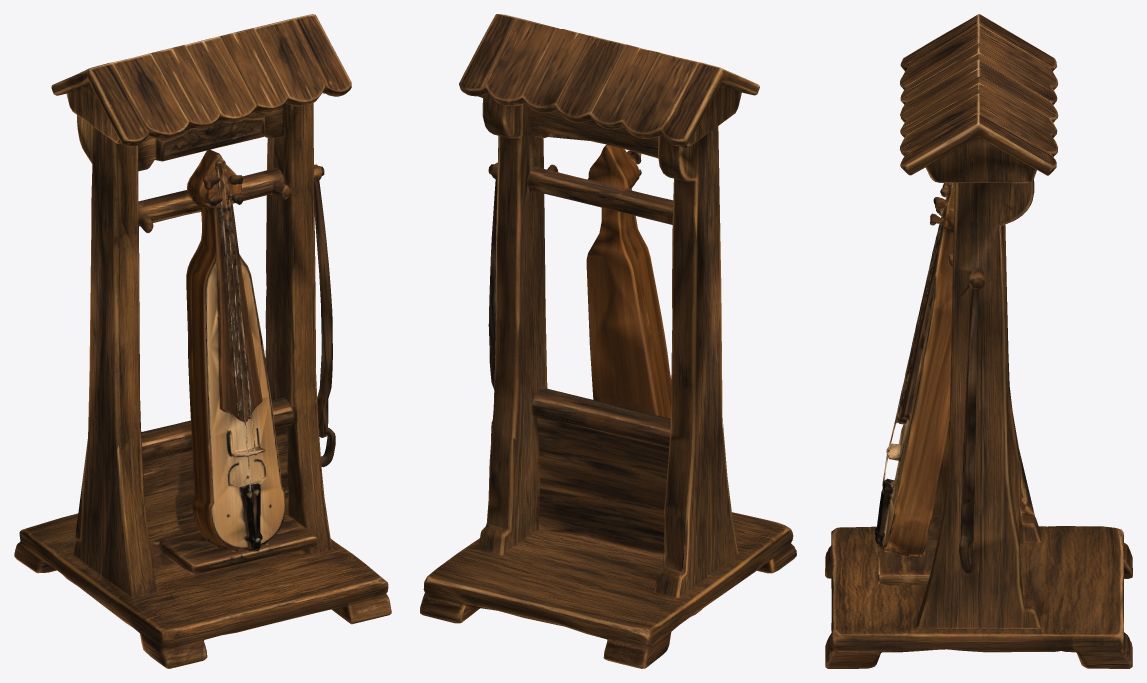
Rendered from city_trabzon_kemence_stand.glb.
The picture shows the model from 3 angles, left to right: view 1: azimuth 30°, elevation 25°; view 2: azimuth 150°, elevation 25°; view 3: azimuth 270°, elevation 25°; orthographic projection.
Parts seen in each view (by area): view 1: Mesh1.0; view 2: Mesh1.0; view 3: Mesh1.0.
Part boxes in pixels (x1=…): Mesh1.0: x1=14, y1=14, x2=391, y2=668; Mesh1.0: x1=420, y1=14, x2=796, y2=668; Mesh1.0: x1=825, y1=14, x2=1132, y2=668.
Bounding box in the file's own units: 1.01 × 2.2 × 1.12.
Materials: 1 (1 with a texture image).
